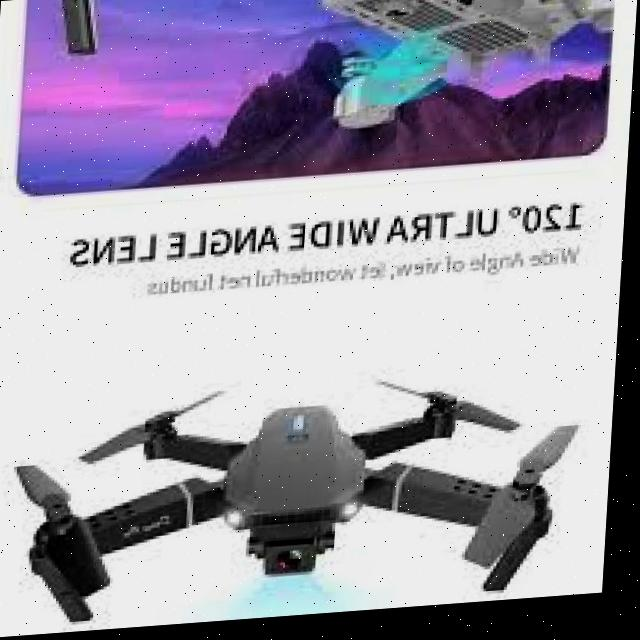drone: (0, 349, 599, 635)
